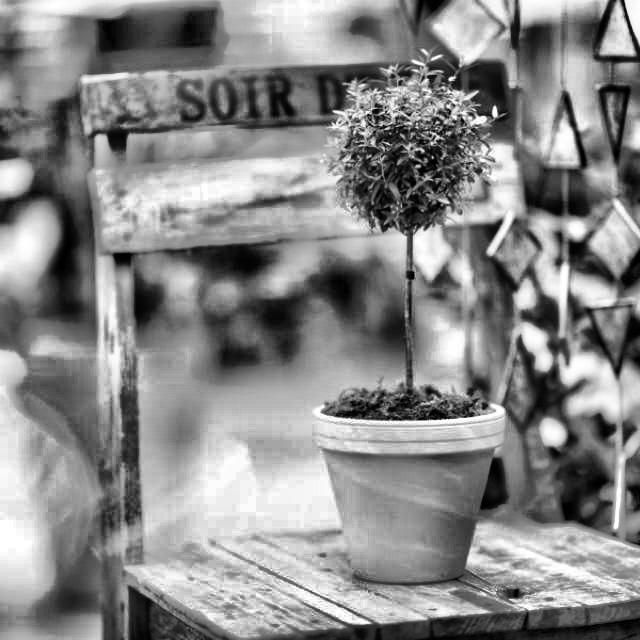plants: (291, 46, 518, 574)
